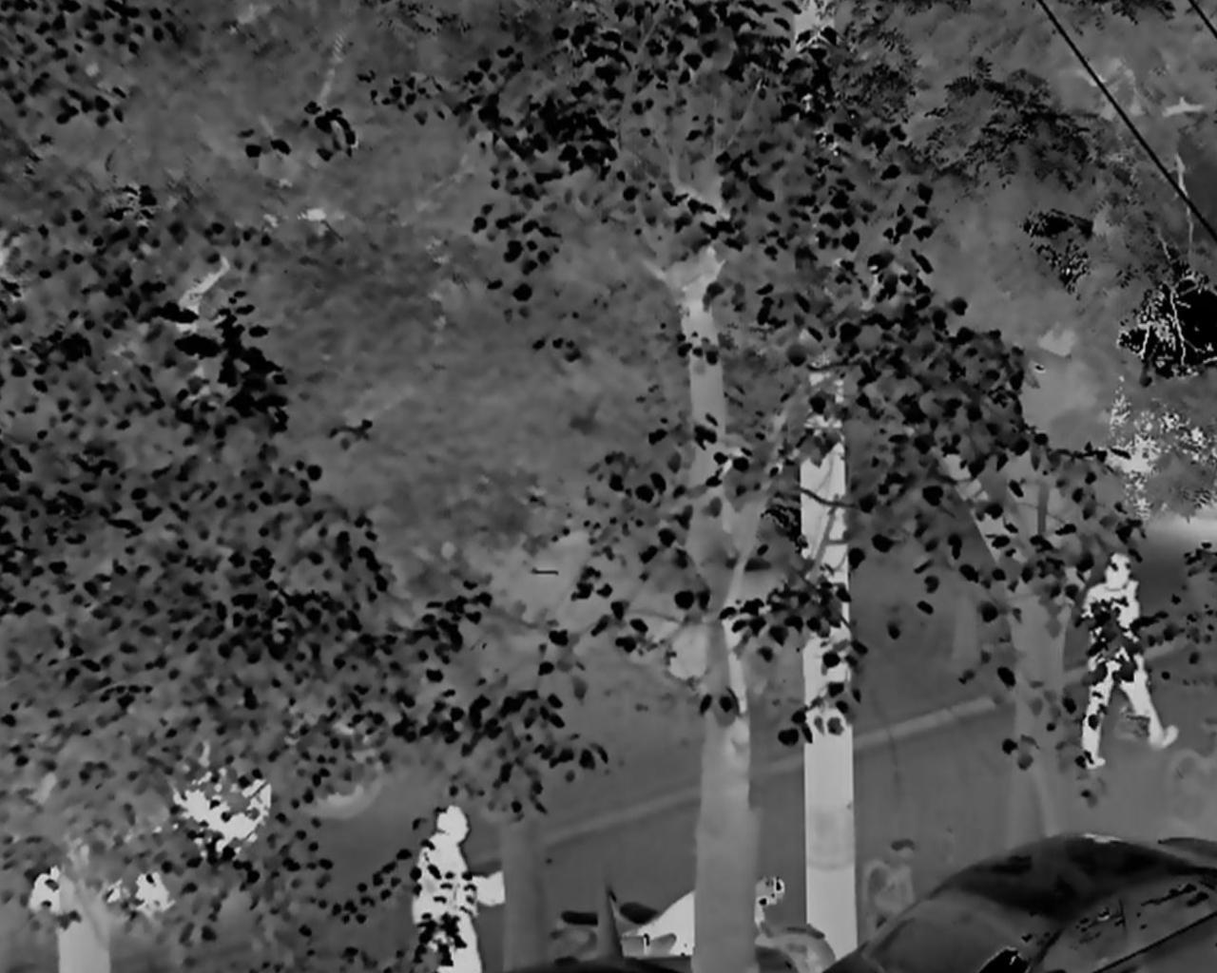person: (1078, 550, 1179, 771), (409, 803, 508, 973)
